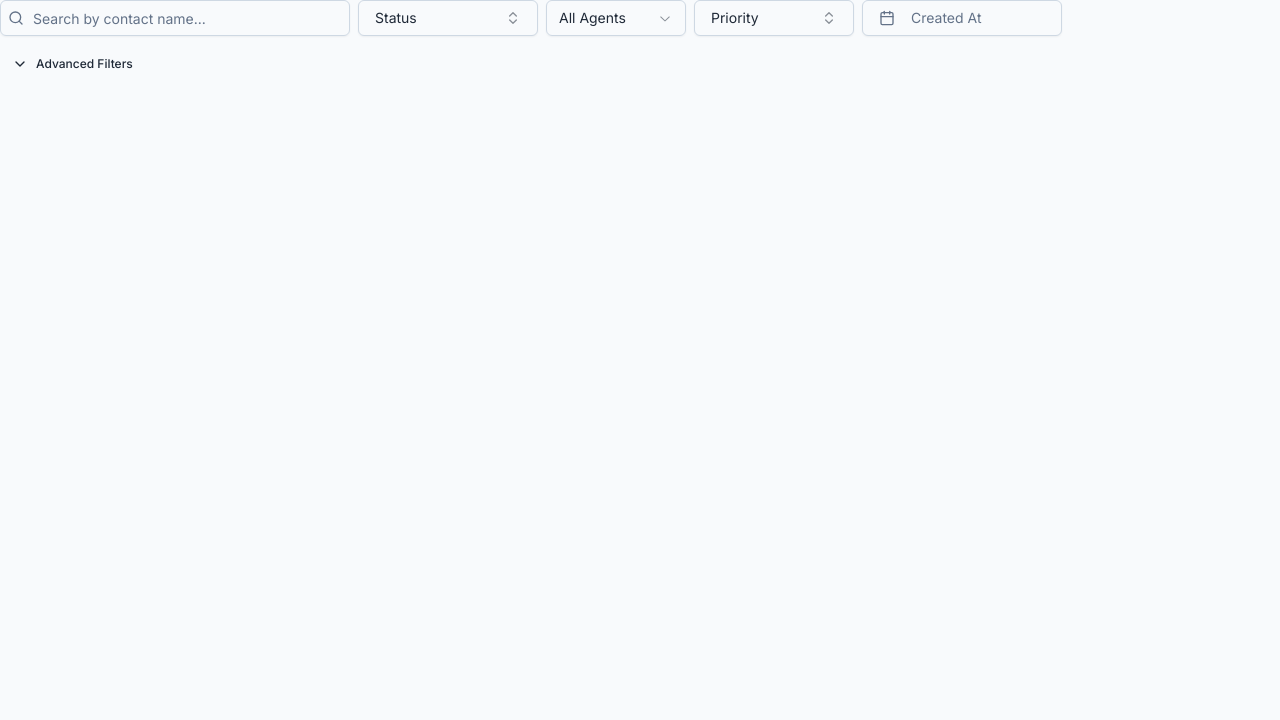
Test: ChatViewFilters › Multi-Select Filters (Feature 015: Chunk 4) › should open multi-select popover when clicked
// Click the status multi-select button (find by text "Status")
Click the dropdown "Status" at (448, 18), box [358, 0, 538, 36]
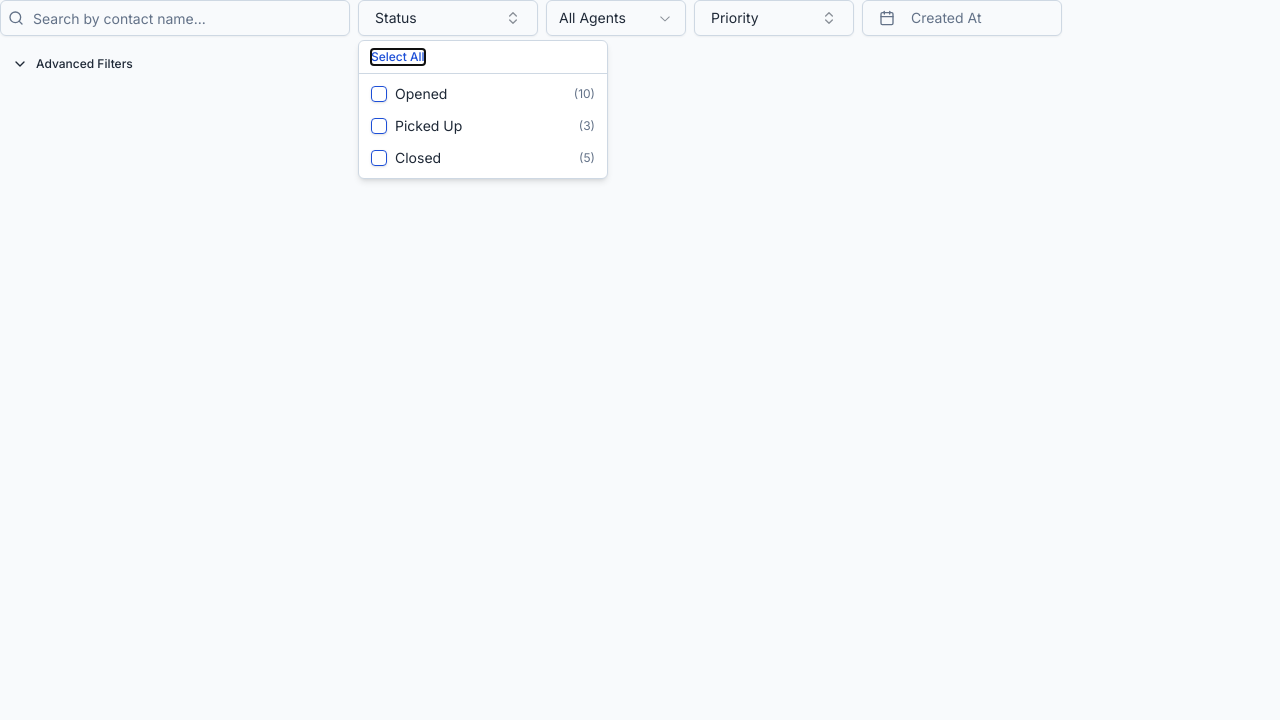
Expected: the button "Select All" is shown, [371, 49, 425, 65]
